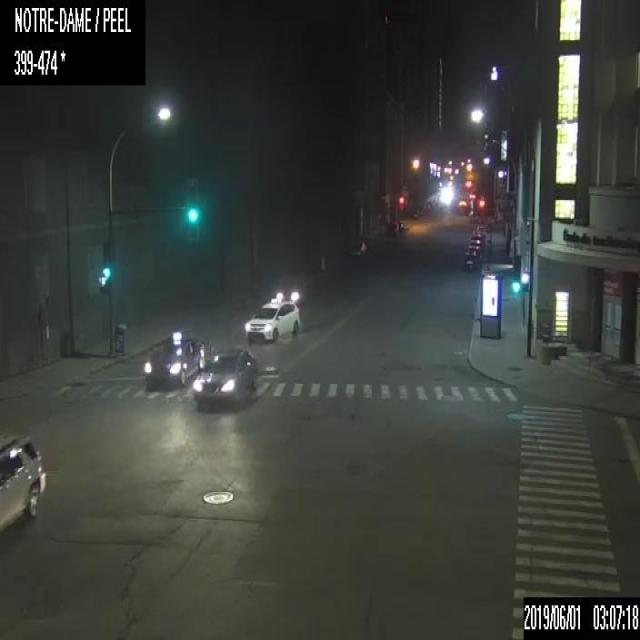construction: (319, 255, 325, 272)
vehicle: (242, 272, 311, 340), (0, 432, 45, 535), (192, 348, 257, 407), (144, 331, 200, 388), (348, 233, 367, 256), (466, 244, 480, 258), (469, 238, 482, 252), (471, 233, 484, 244)
